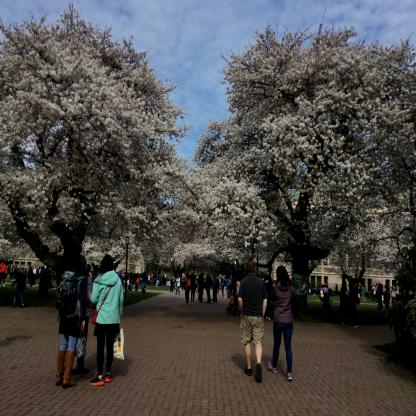Someiyoshino: (2, 28, 413, 259)
